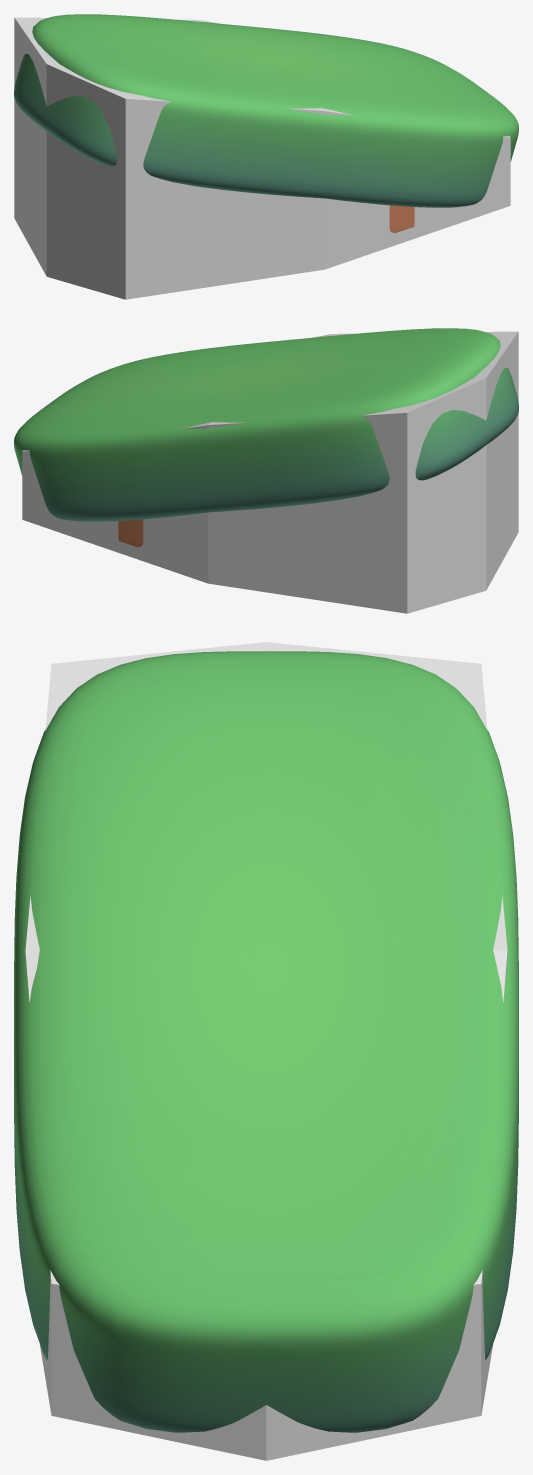
File: SlantMediumLow.glb
3 renders of one model, top to bottom at view 1: azimuth 30°, elevation 25°; view 2: azimuth 150°, elevation 25°; view 3: azimuth 270°, elevation 25°, orthographic. The views are drawn at different scales.
Visible parts, largest first — view 1: SlantMediumLow, colision-colonly.002; view 2: SlantMediumLow, colision-colonly.002; view 3: SlantMediumLow, colision-colonly.002.
Part boxes in pixels (<box>): SlantMediumLow: <box>14,14,518,232</box>; colision-colonly.002: <box>14,17,510,299</box>; SlantMediumLow: <box>14,328,518,546</box>; colision-colonly.002: <box>22,331,518,613</box>; SlantMediumLow: <box>14,651,518,1432</box>; colision-colonly.002: <box>25,642,507,1460</box>.
Bounding box in the file's own units: 3.95 × 1.86 × 2.
1 material, 1 textured.
